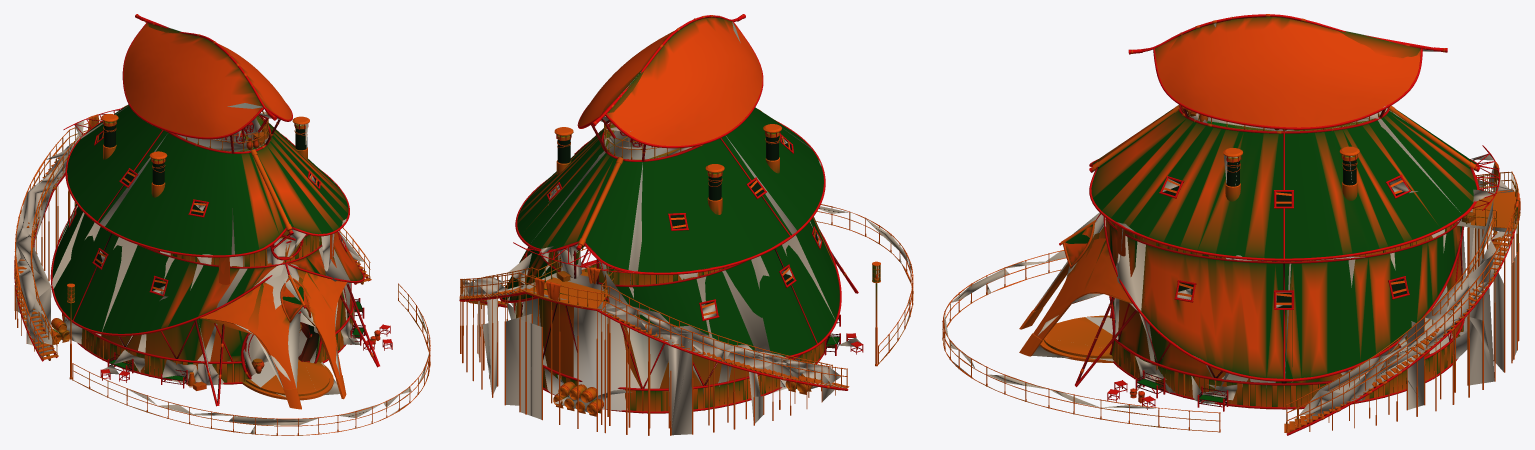
File: KB3D_GAE_BldgMD_F.glb
3 views of the same model, side by side, from view 1: azimuth 30°, elevation 25°; view 2: azimuth 150°, elevation 25°; view 3: azimuth 270°, elevation 25° (orthographic). The views are drawn at different scales.
Visible parts, largest first — view 1: L0, L2, L1; view 2: L0, L2, L1; view 3: L0, L2, L1.
Part boxes in pixels (x1=…): L0: x1=14, y1=14, x2=430, y2=435; L2: x1=15, y1=26, x2=429, y2=433; L1: x1=14, y1=17, x2=429, y2=435; L0: x1=459, y1=14, x2=913, y2=435; L2: x1=460, y1=22, x2=912, y2=435; L1: x1=460, y1=15, x2=912, y2=419; L0: x1=942, y1=14, x2=1520, y2=435; L2: x1=943, y1=23, x2=1517, y2=423; L1: x1=943, y1=16, x2=1520, y2=432.
Bounding box in the file's own units: 24.49 × 20.35 × 32.22.
